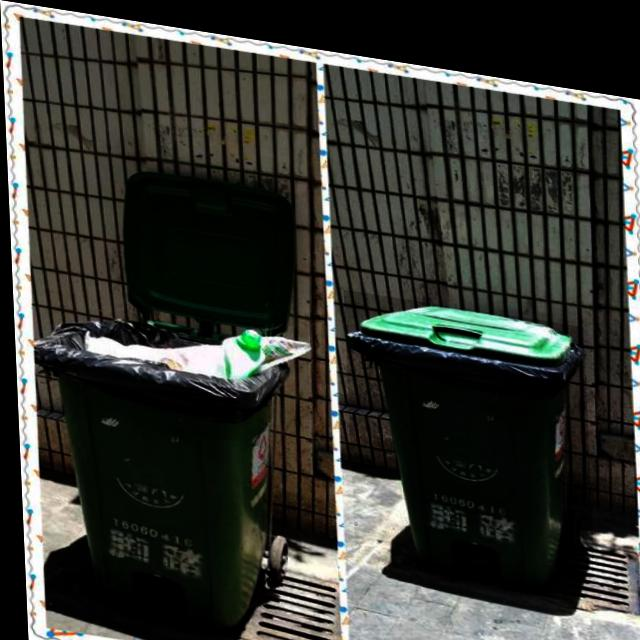garbage_bin: (341, 279, 591, 580)
overflow: (30, 295, 318, 631)
